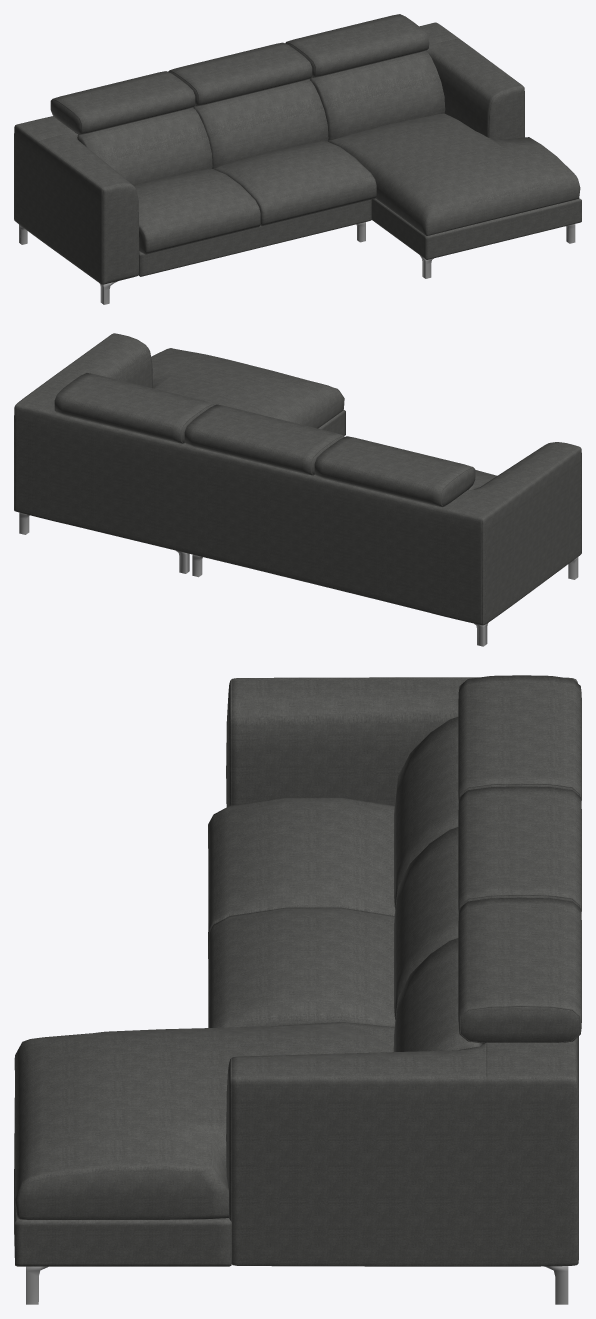
File: sofa-2.FBX
3 views of the same model, one above another, from view 1: azimuth 30°, elevation 25°; view 2: azimuth 150°, elevation 25°; view 3: azimuth 270°, elevation 25° (orthographic). The views are drawn at different scales.
Parts seen in each view (by area): view 1: FNSF51EAGY1L003; view 2: FNSF51EAGY1L003; view 3: FNSF51EAGY1L003.
Boxes of the visible parts, x1,y1,x2,y2 form: FNSF51EAGY1L003: [14, 14, 581, 304]; FNSF51EAGY1L003: [14, 333, 581, 646]; FNSF51EAGY1L003: [14, 675, 581, 1304].
Size of the model in its own units: 269 by 82.69 by 160.
